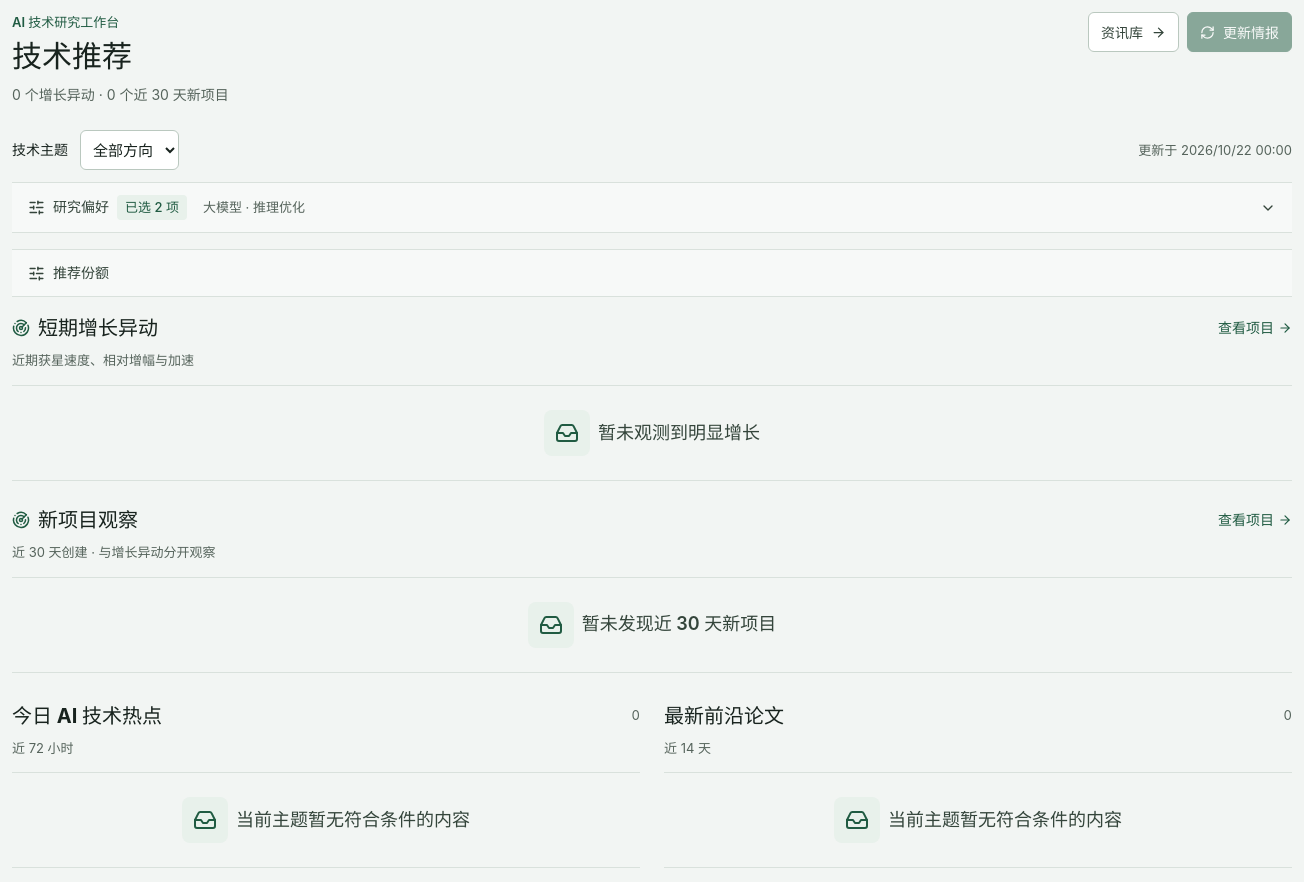
it: shows real empty sections and saves interests through the API
The width and height of the screenshot is (1304, 882).
Expected: the heading "暂未观测到明显增长" is shown, [598,419,760,447]
Expected: the heading "暂未发现近 30 天新项目" is shown, [582,610,776,639]
What coordinates should you click on to do the following:
click the text "研究偏好"
I would click on:
 (81, 208)
Its box is [53,196,109,219].
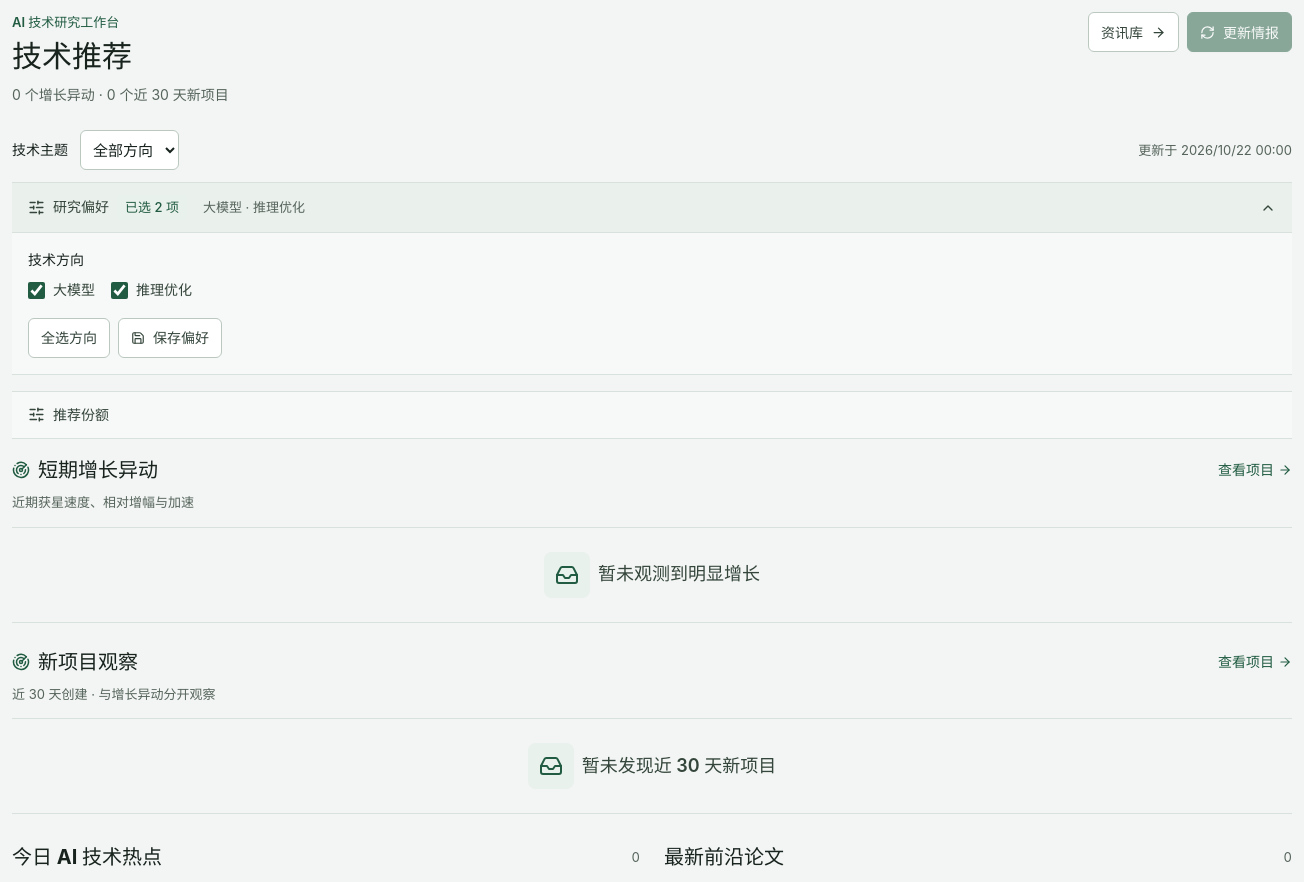
What coordinates should you click on to do the following:
click the checkbox labelled "大模型"
I would click on:
 (36, 291)
Its box is [28,282,45,299].
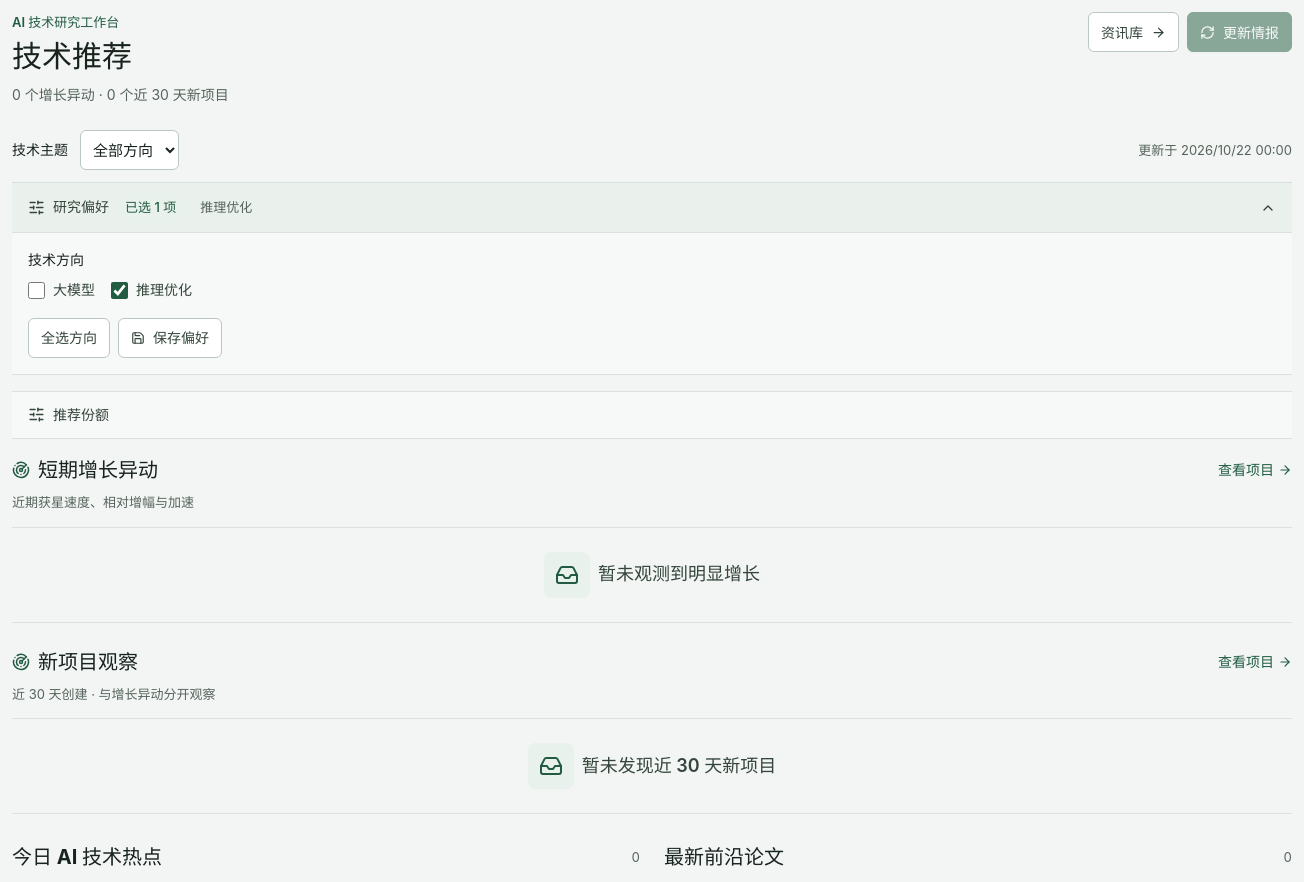
What coordinates should you click on to do the following:
click the button "保存偏好"
I would click on:
 (170, 338)
Its box is [118,318,222,358].
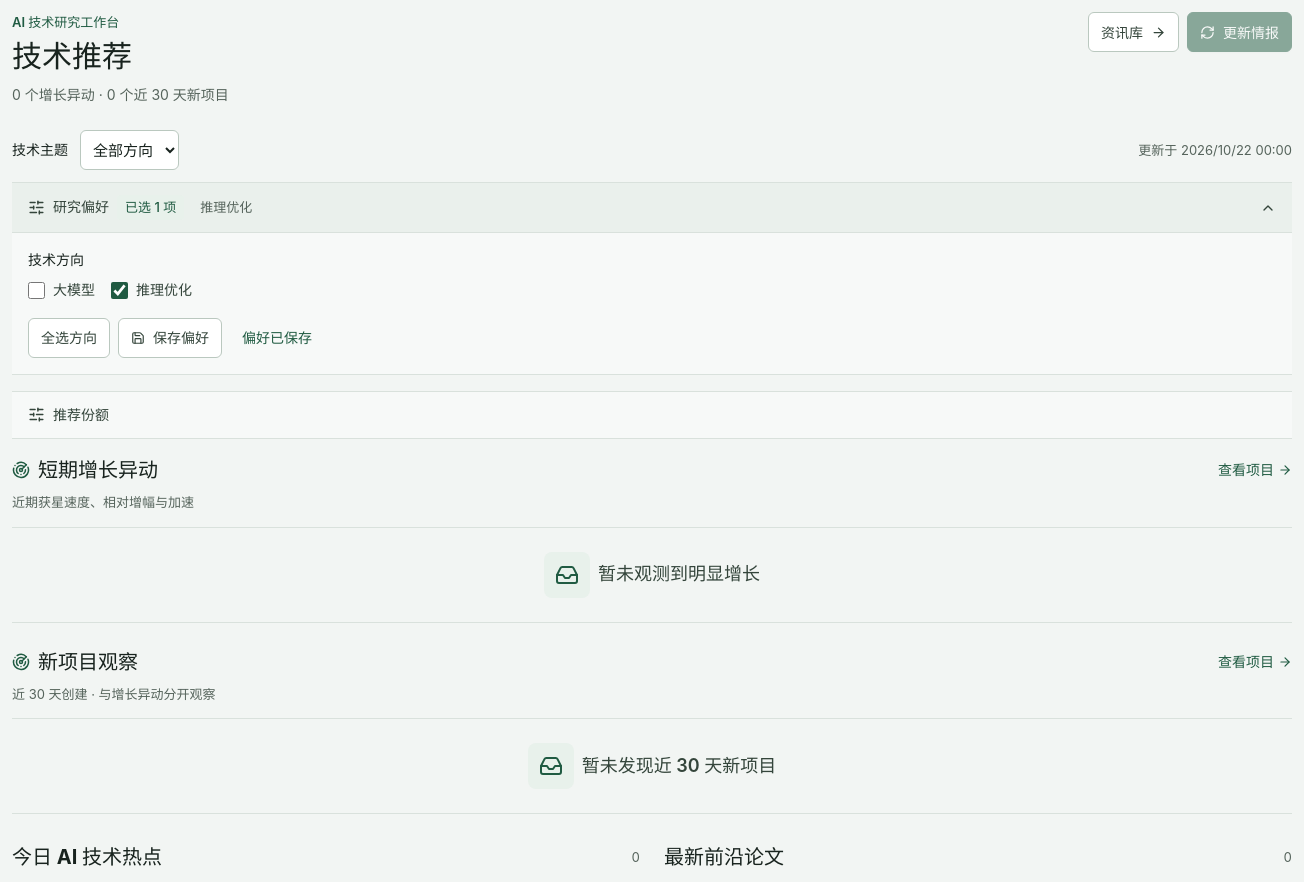
Now the checkbox labelled "大模型" is not checked, box [28,282,45,299]
Now the text "偏好已保存" is shown, box [242,327,312,349]
